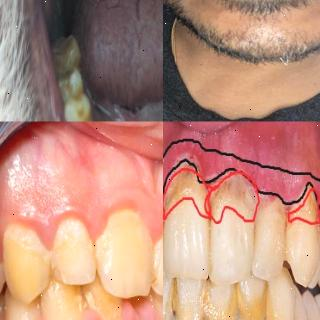Gum Swelling: (163, 140, 320, 219), (0, 191, 163, 265)
calculus: (206, 174, 258, 276), (164, 160, 209, 276), (288, 190, 320, 270), (256, 200, 290, 272), (236, 277, 268, 320), (170, 282, 206, 320), (261, 281, 295, 320), (204, 282, 237, 320), (163, 274, 175, 320), (315, 213, 320, 279)
maligned: (287, 171, 320, 286)
plaque: (95, 218, 151, 290), (49, 218, 94, 288), (4, 221, 46, 289), (82, 275, 123, 320), (45, 278, 81, 320), (147, 218, 163, 289)
stains: (66, 87, 94, 121), (57, 62, 77, 97)
